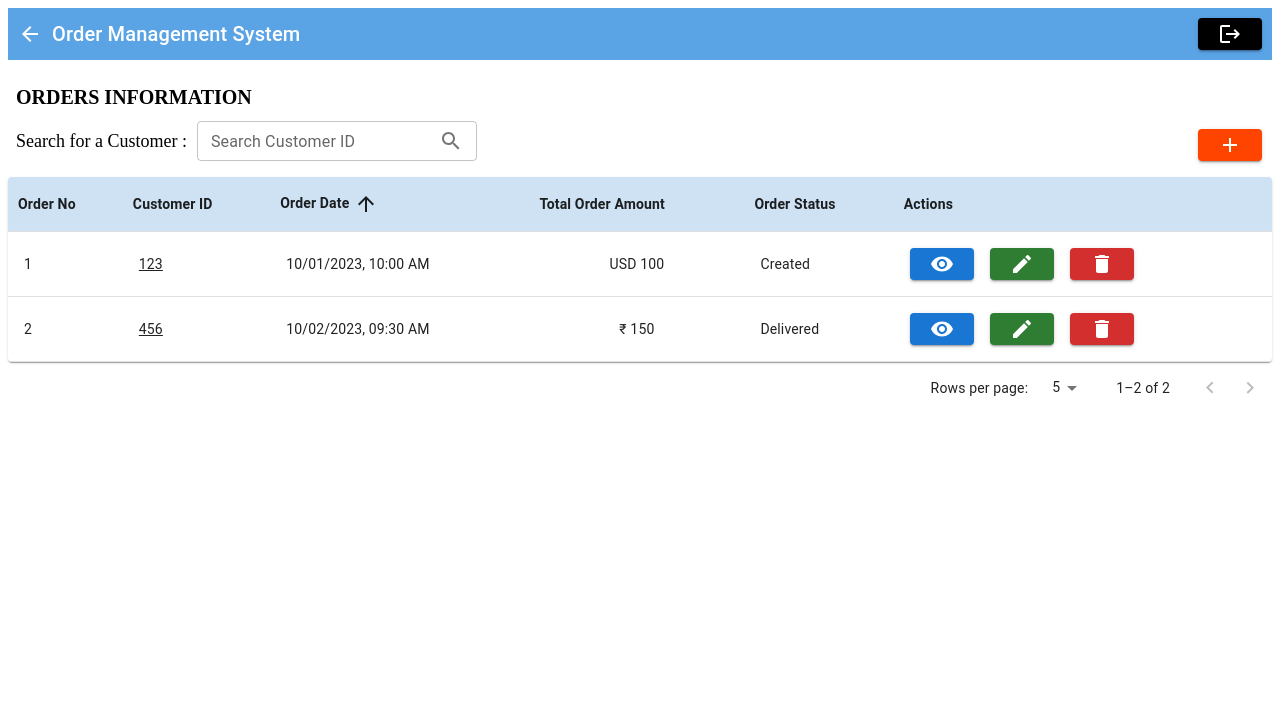
Test: Order Component › closes the confirmation dialog when canceling deletion
Expected: the text "123" is shown, [139,256,163,272]
Click the button with test id "deleteicon-1" at (1102, 264), box [1070,248,1134,280]
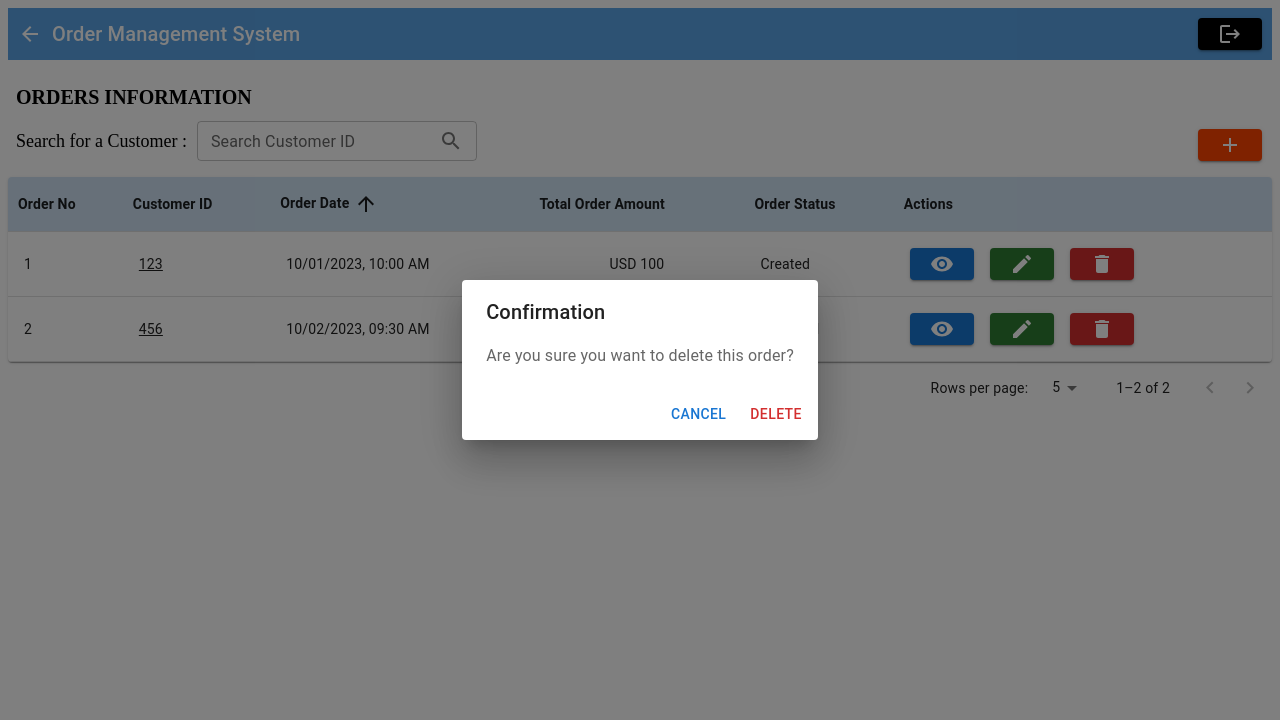
Click the button with test id "cancel" at (699, 414), box [663,396,734,432]
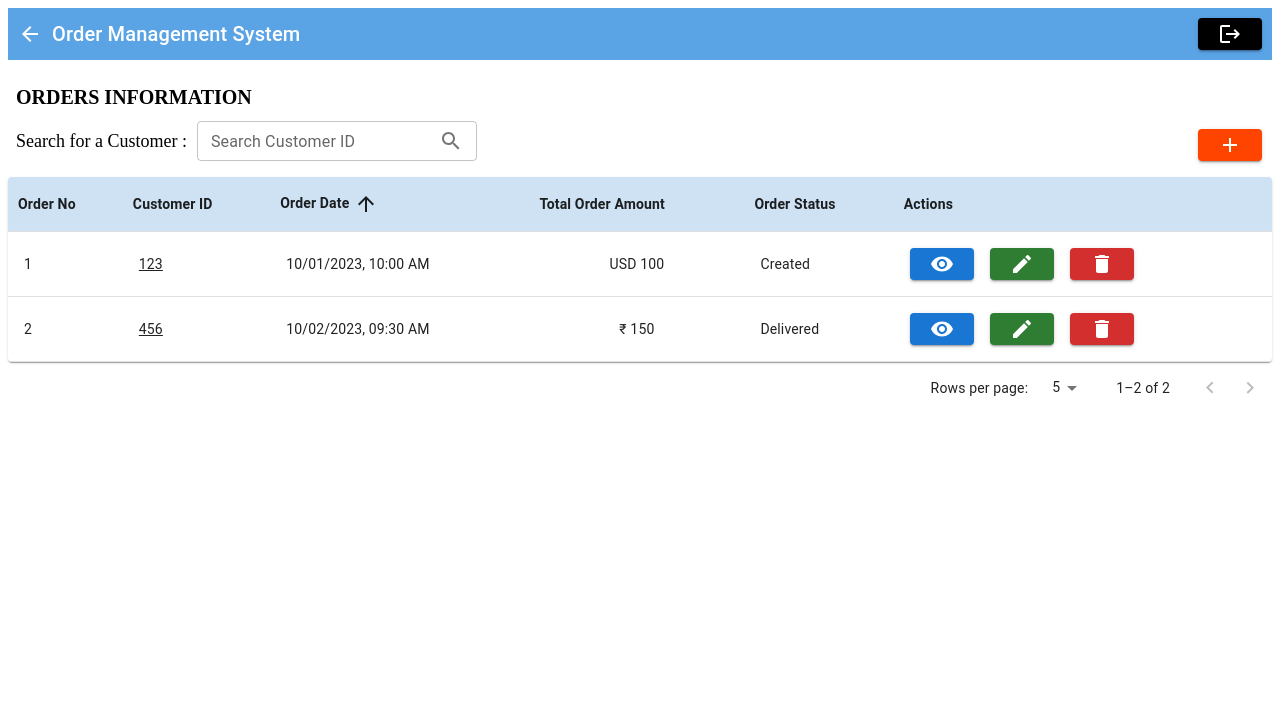
Result: the text "Are you sure you want to delete this order?" is gone
